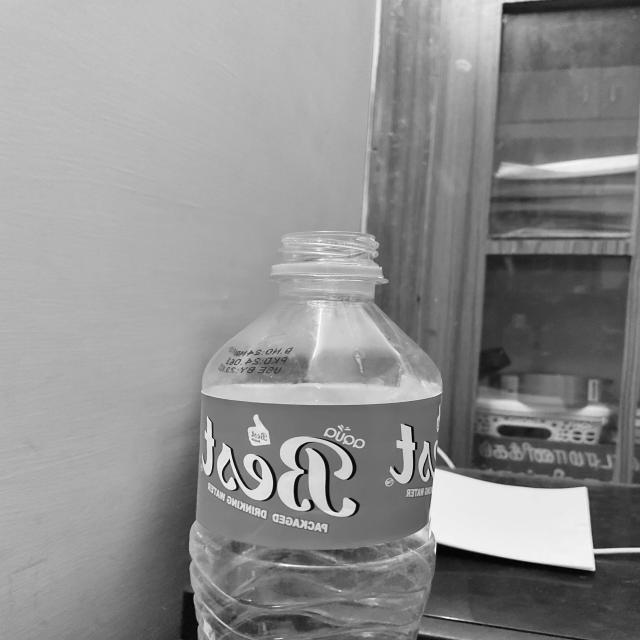open-cap: (270, 227, 382, 274)
